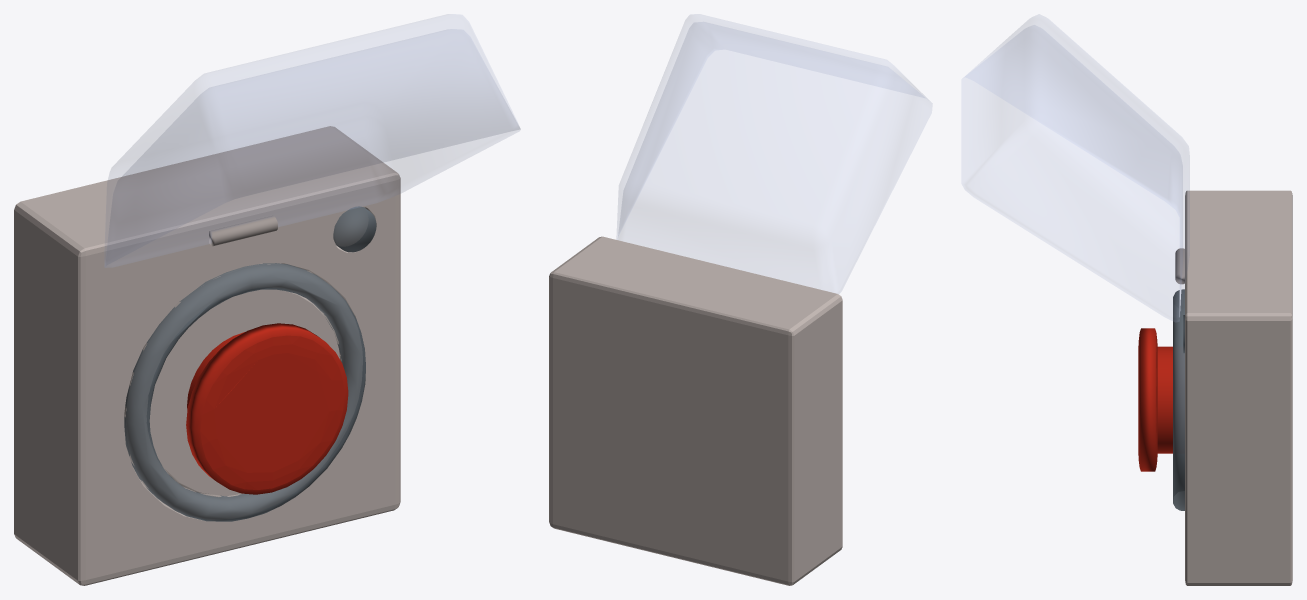
The model's file is big-button.glb.
3 renders of one model, left to right at view 1: azimuth 30°, elevation 25°; view 2: azimuth 150°, elevation 25°; view 3: azimuth 270°, elevation 25°, orthographic. The views are drawn at different scales.
Visible parts, largest first — view 1: ButtonModule, Cover, ButtonHead, LightRing, Light.005, Hinge; view 2: ButtonModule, Cover; view 3: Cover, ButtonModule, ButtonHead, LightRing, ButtonShaft.
Part boxes in pixels (bbox=[...]): ButtonModule: bbox=[14, 126, 400, 585]; Cover: bbox=[104, 14, 520, 267]; ButtonHead: bbox=[186, 323, 348, 494]; LightRing: bbox=[124, 263, 365, 521]; Light.005: bbox=[333, 206, 376, 252]; Hinge: bbox=[209, 215, 277, 246]; ButtonModule: bbox=[549, 236, 842, 585]; Cover: bbox=[617, 14, 931, 293]; Cover: bbox=[962, 14, 1189, 321]; ButtonModule: bbox=[1185, 190, 1292, 585]; ButtonHead: bbox=[1138, 328, 1157, 471]; LightRing: bbox=[1173, 289, 1184, 510]; ButtonShaft: bbox=[1157, 346, 1172, 453].
Bounding box in the file's own units: 0.1761 × 0.298 × 0.1938.
